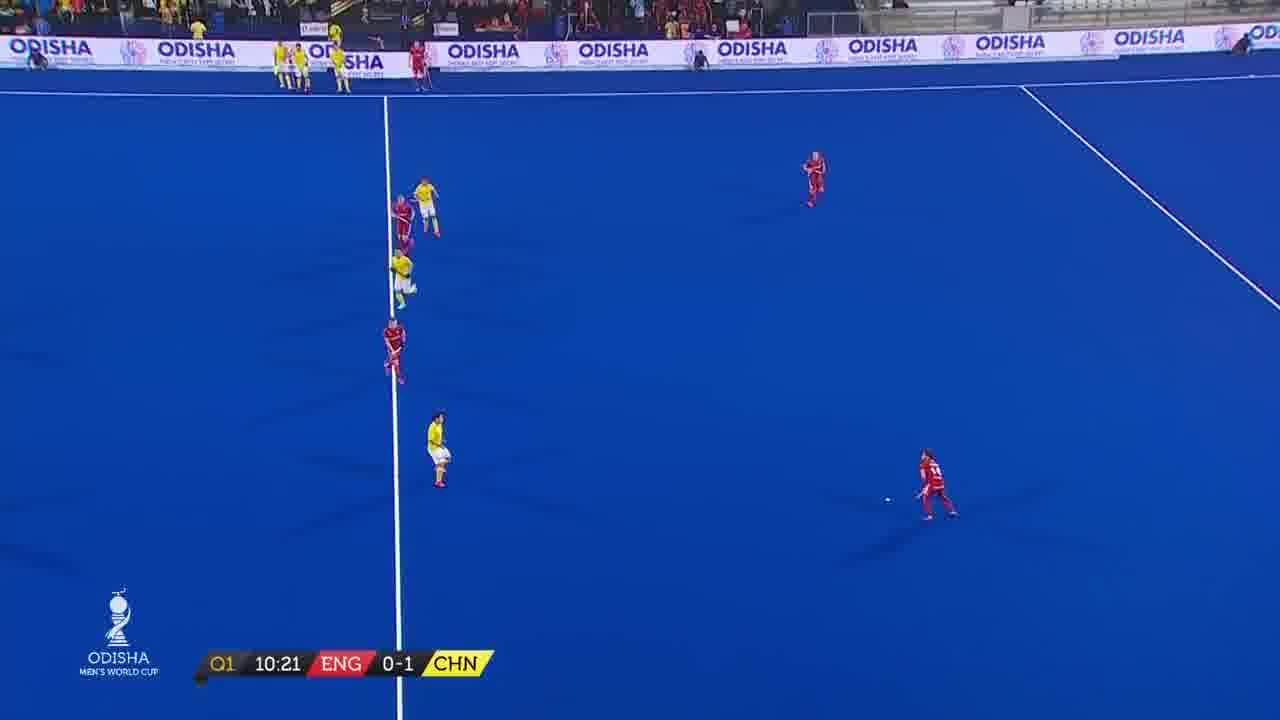ball: (878, 492, 894, 507)
